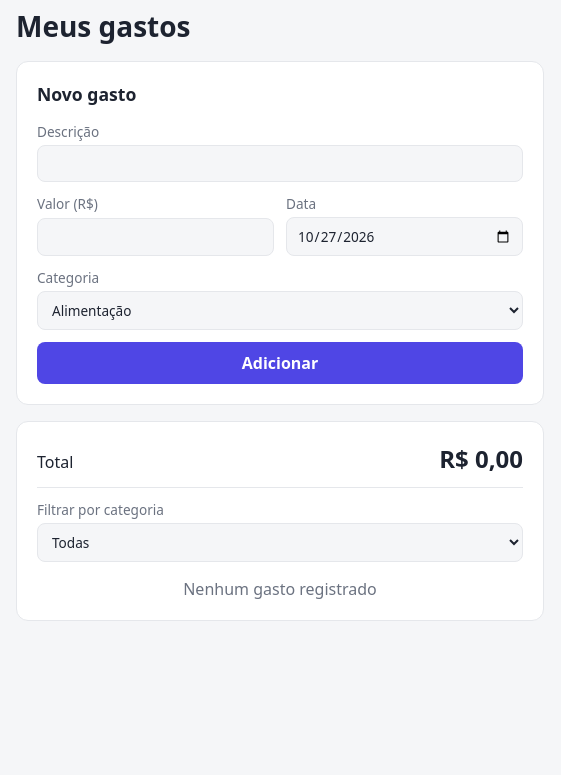
Test: App › registra um gasto válido e limpa o formulário
In the field labelled "Descrição": (280, 164) [37, 145, 523, 182], type "Almoço"
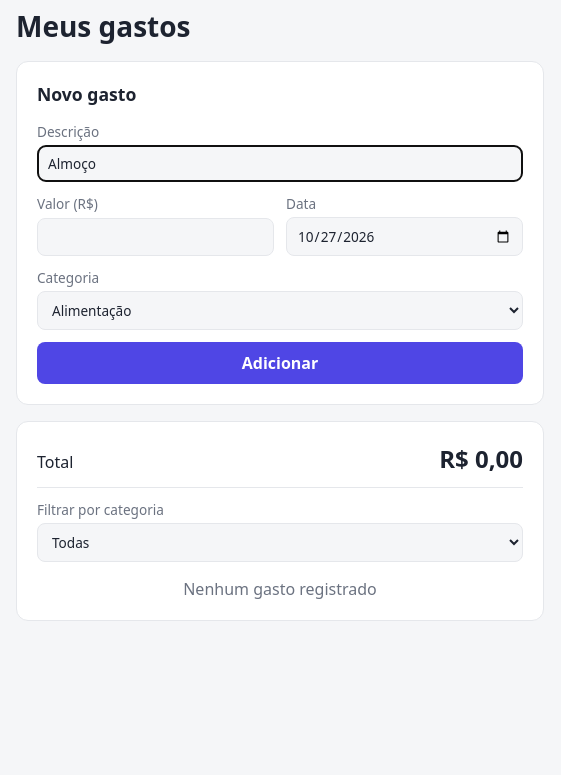
In the field labelled "Valor (R$)": (156, 237) [37, 218, 274, 256], type "32,50"
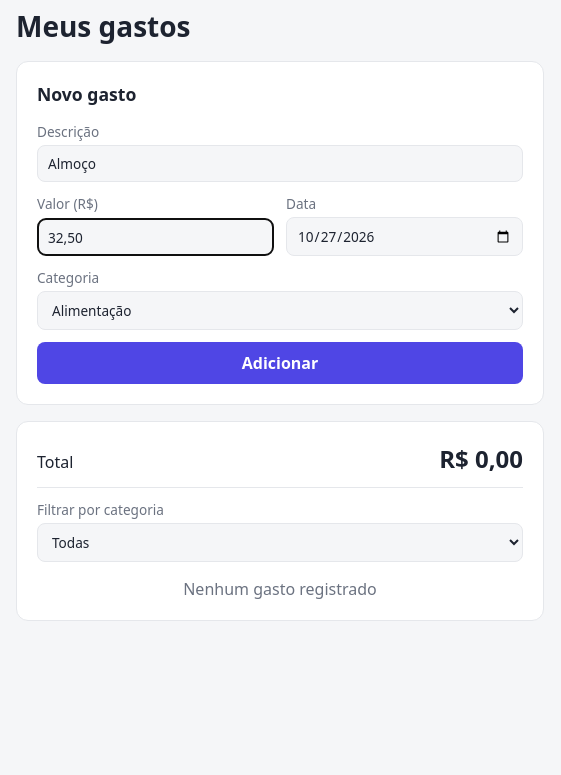
In the date field labelled "Data": (404, 236) [286, 217, 523, 256], type "2026-10-20"
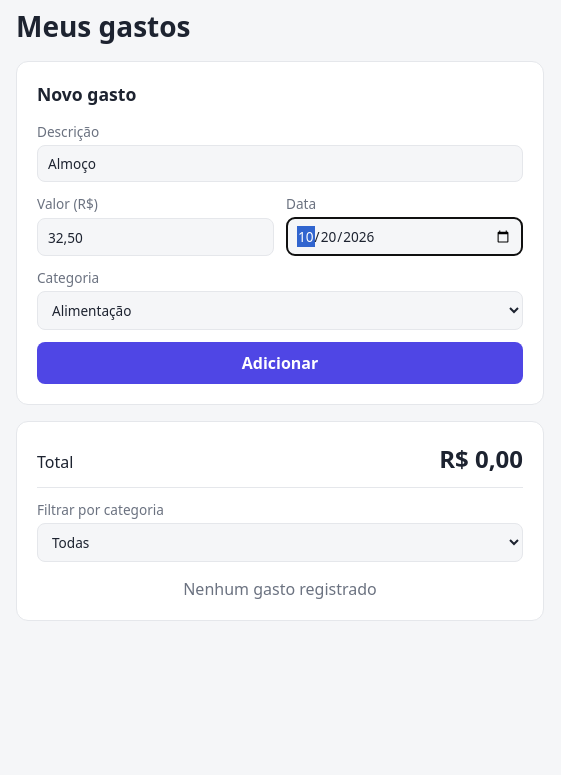
Click the button "Adicionar": (280, 363) [37, 342, 523, 384]
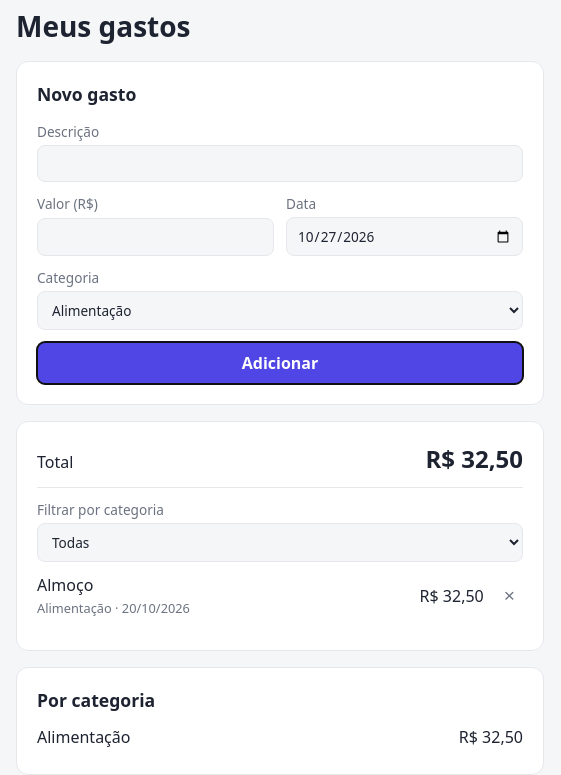
Result: the text "Alimentação · 20/10/2026" is shown at [37, 599, 190, 617]
Result: the field labelled "Descrição" is empty at [37, 145, 523, 182]
Result: the field labelled "Valor (R$)" is empty at [37, 218, 274, 256]
